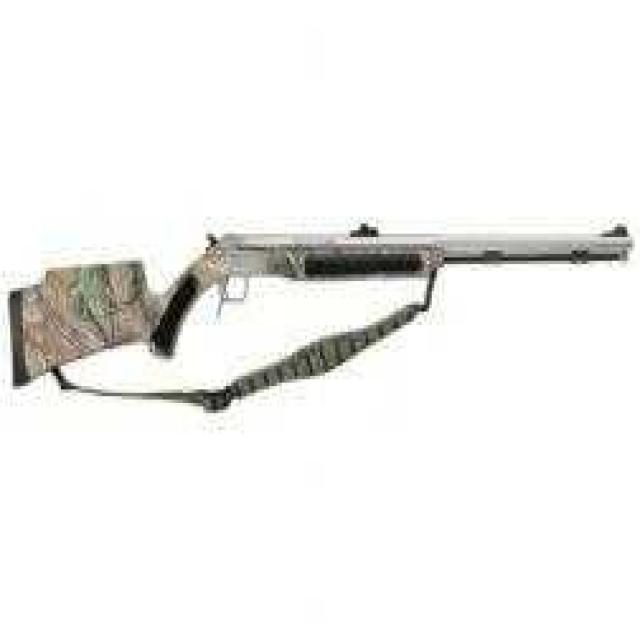heavyweapon: (6, 181, 639, 414)
